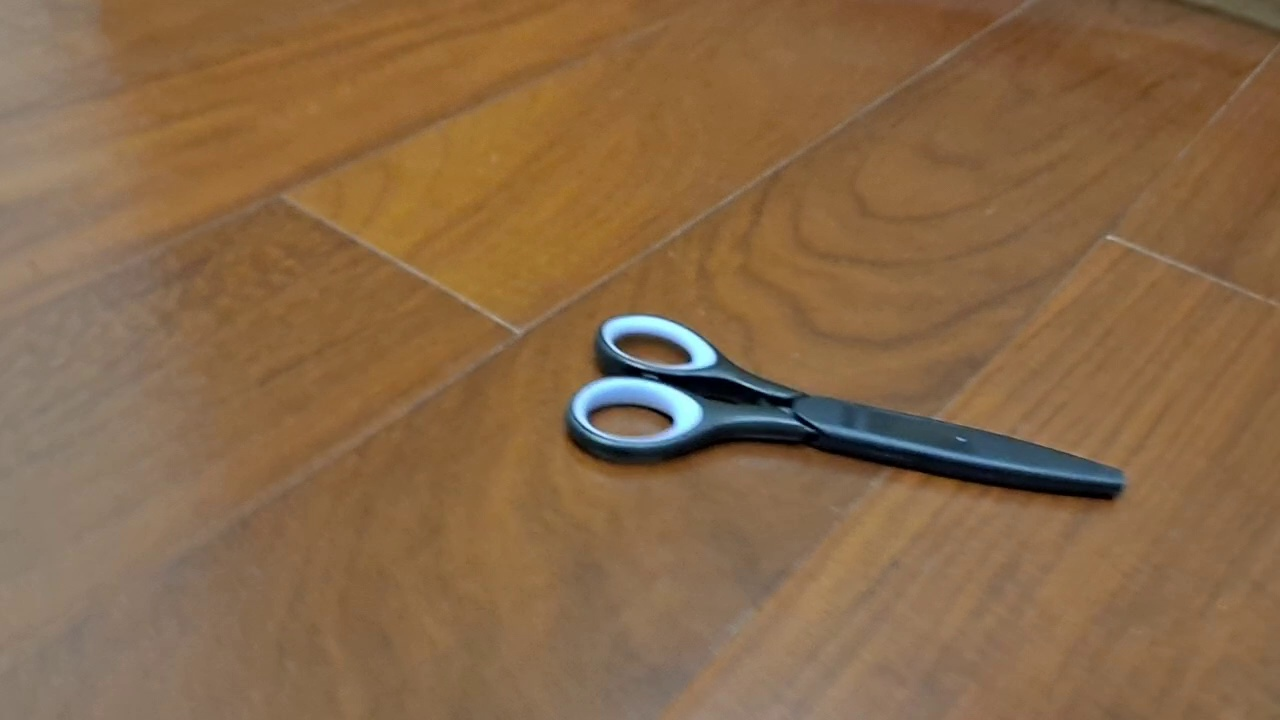scissors: (564, 311, 1128, 503)
